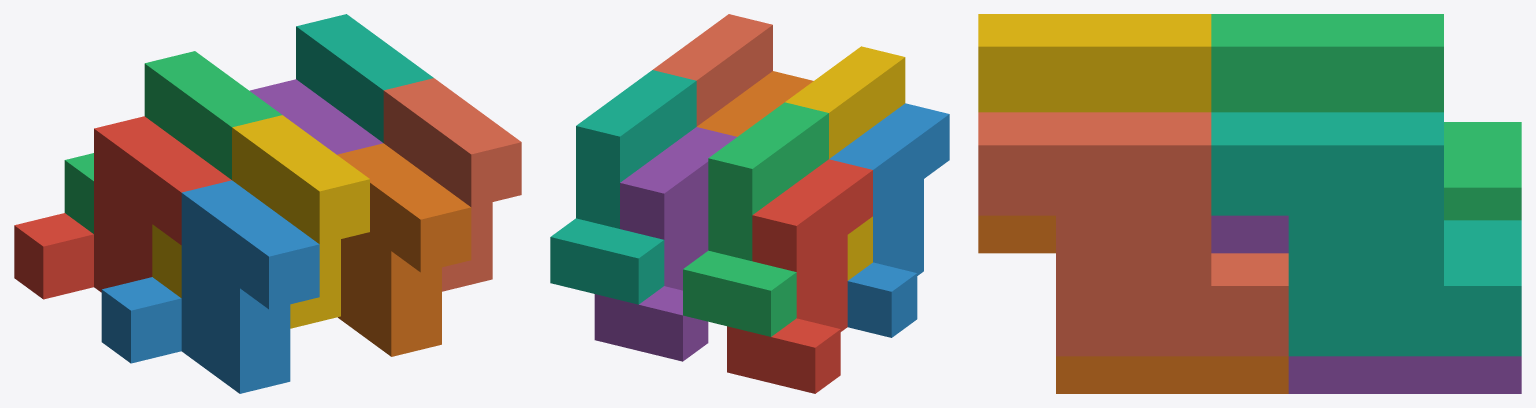
The model's file is tiling.obj.
The picture shows the model from 3 angles, left to right: view 1: azimuth 30°, elevation 25°; view 2: azimuth 150°, elevation 25°; view 3: azimuth 270°, elevation 25°; orthographic projection. The views are drawn at different scales.
Visible parts, largest first — view 1: copy_1_domain_2, copy_1_domain_1, copy_1_domain_6, copy_1_domain_4, copy_1_domain_8, copy_1_domain_3, copy_1_domain_7, copy_1_domain_5; view 2: copy_1_domain_1, copy_1_domain_7, copy_1_domain_3, copy_1_domain_5, copy_1_domain_2, copy_1_domain_4, copy_1_domain_8, copy_1_domain_6; view 3: copy_1_domain_7, copy_1_domain_8, copy_1_domain_3, copy_1_domain_4, copy_1_domain_5, copy_1_domain_6.
Part boxes in pixels (x1=…): copy_1_domain_2: x1=101, y1=180, x2=319, y2=393; copy_1_domain_1: x1=14, y1=116, x2=231, y2=299; copy_1_domain_6: x1=337, y1=143, x2=471, y2=356; copy_1_domain_4: x1=152, y1=115, x2=369, y2=328; copy_1_domain_8: x1=383, y1=78, x2=521, y2=291; copy_1_domain_3: x1=64, y1=51, x2=281, y2=233; copy_1_domain_7: x1=296, y1=14, x2=433, y2=142; copy_1_domain_5: x1=249, y1=79, x2=382, y2=154; copy_1_domain_1: x1=727, y1=159, x2=872, y2=393; copy_1_domain_7: x1=550, y1=70, x2=696, y2=304; copy_1_domain_3: x1=683, y1=102, x2=828, y2=336; copy_1_domain_5: x1=594, y1=127, x2=736, y2=361; copy_1_domain_2: x1=829, y1=103, x2=949, y2=337; copy_1_domain_4: x1=785, y1=46, x2=905, y2=280; copy_1_domain_8: x1=653, y1=14, x2=772, y2=126; copy_1_domain_6: x1=697, y1=71, x2=813, y2=136; copy_1_domain_7: x1=1211, y1=112, x2=1521, y2=356; copy_1_domain_8: x1=978, y1=112, x2=1288, y2=356; copy_1_domain_3: x1=1211, y1=14, x2=1521, y2=220; copy_1_domain_4: x1=978, y1=14, x2=1211, y2=112; copy_1_domain_5: x1=1211, y1=215, x2=1521, y2=393; copy_1_domain_6: x1=978, y1=215, x2=1288, y2=393.
Bounding box in the file's own units: 6 × 4 × 7.
